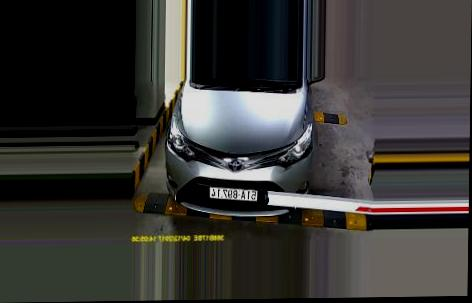License_Plate: (207, 183, 261, 203)
